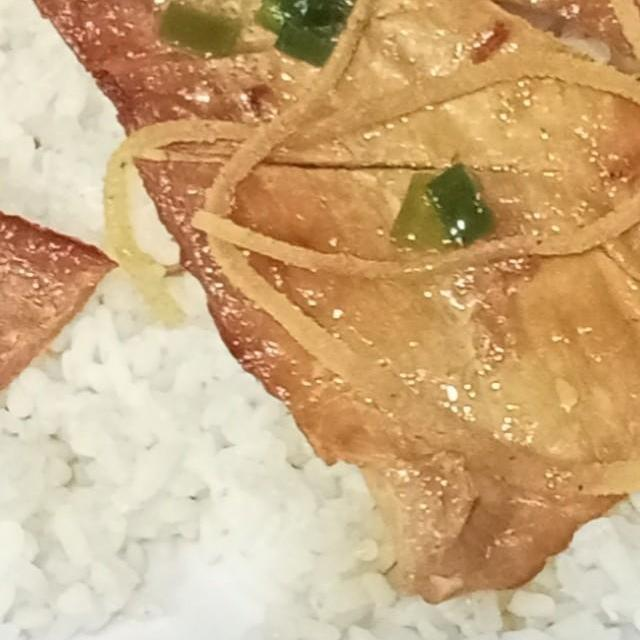bi: (85, 0, 640, 519)
com: (0, 0, 309, 640), (248, 400, 640, 640)
suon: (0, 0, 640, 619), (0, 102, 122, 515)
